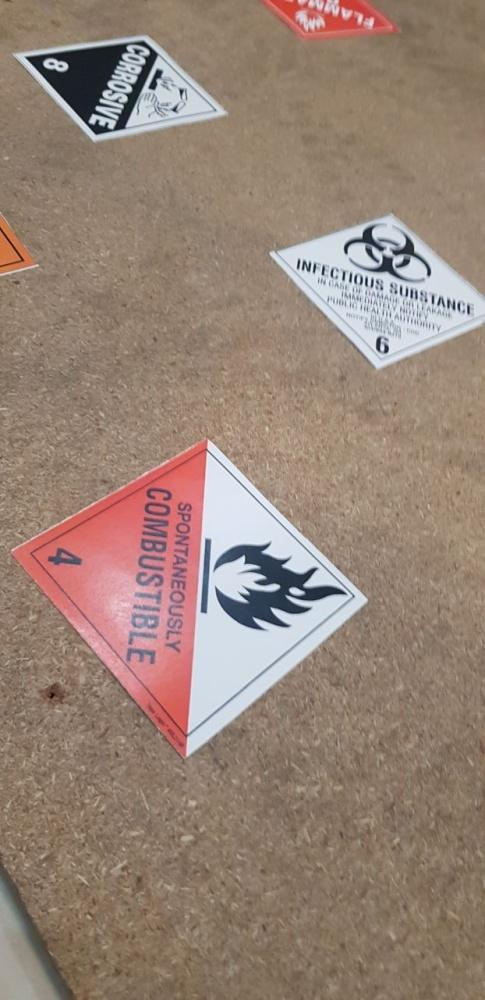corrosive: (6, 31, 239, 147)
flammable: (254, 1, 413, 46)
infectious-substance: (267, 212, 485, 376)
spontaneously-combustible: (10, 437, 377, 755)
